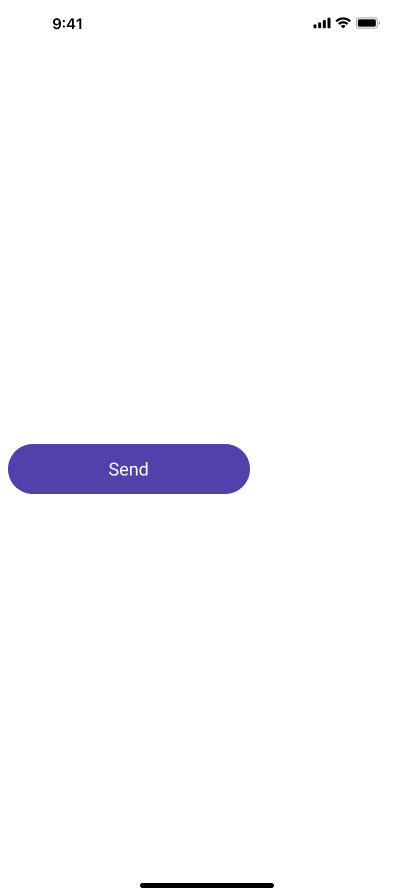Buttons: (8, 444, 250, 494)
Home Indicator: (0, 862, 414, 896)
Status Bar: (0, 0, 414, 44)
